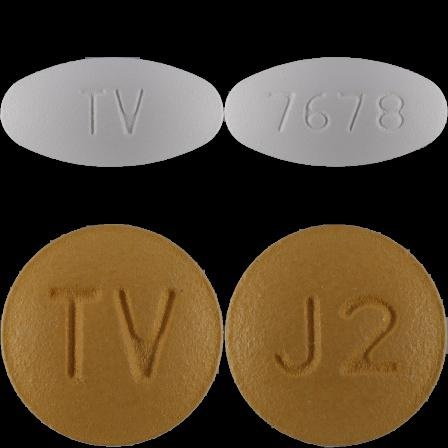0093-7678: (0, 0, 224, 224)
